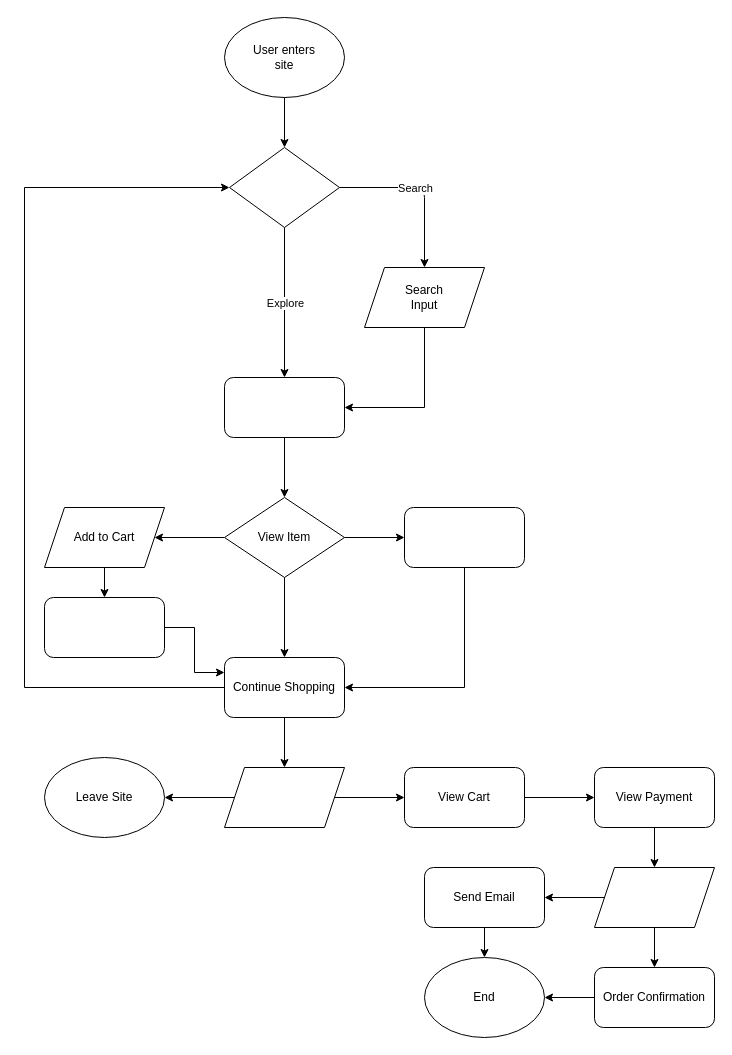
Some shapes in this 732 by 1055 pixel diagram are drawn without their labels. The centre of each missing label's shape, as x and y in pixels:
Added to Cart Confirmation: pixel 104 627
Checkout: pixel 284 797
Exploring Products: pixel 284 407
Input Payment Info: pixel 654 897
Product Page: pixel 464 537
Search/Explore: pixel 284 187
